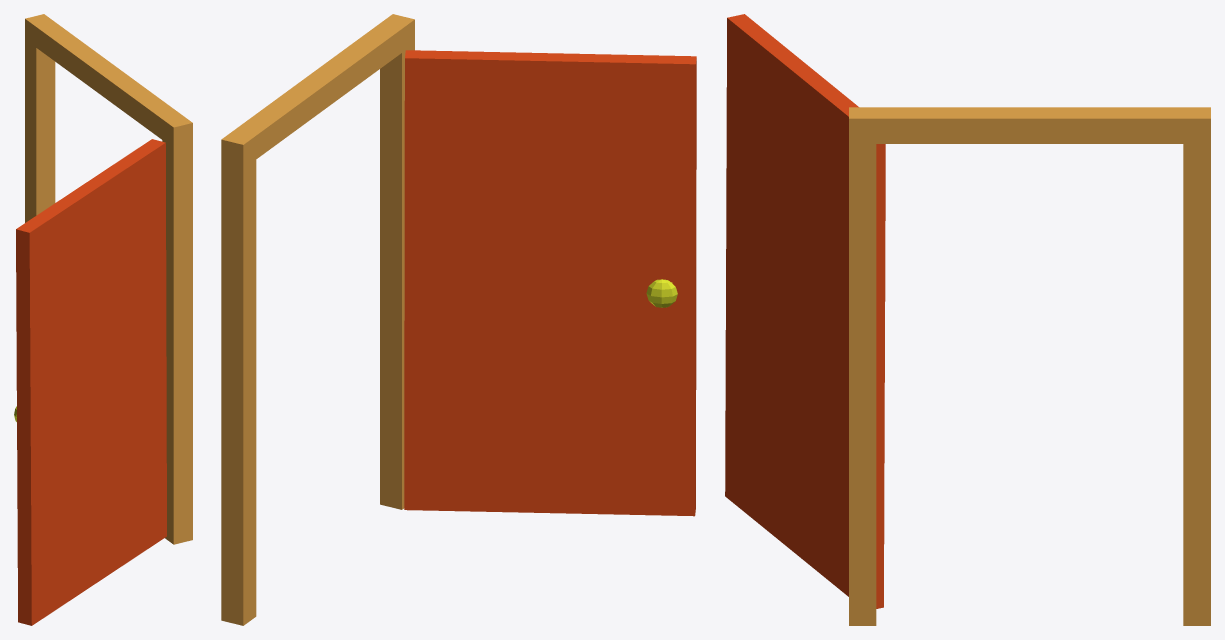
File: door.gltf
The picture shows the model from 3 angles, left to right: view 1: azimuth 30°, elevation 25°; view 2: azimuth 150°, elevation 25°; view 3: azimuth 270°, elevation 25°; orthographic projection. The views are drawn at different scales.
Visible parts, largest first — view 1: Cube, Frame; view 2: Cube, Frame, Knob; view 3: Cube, Frame.
Boxes of the visible parts, x1,y1,x2,y2 form: Cube: (16, 139, 166, 625); Frame: (25, 14, 192, 544); Cube: (404, 50, 696, 516); Frame: (221, 14, 414, 625); Knob: (646, 279, 677, 307); Cube: (725, 14, 885, 608); Frame: (849, 107, 1210, 625).
Size of the model in its own units: 2.55 by 4.63 by 4.01.
